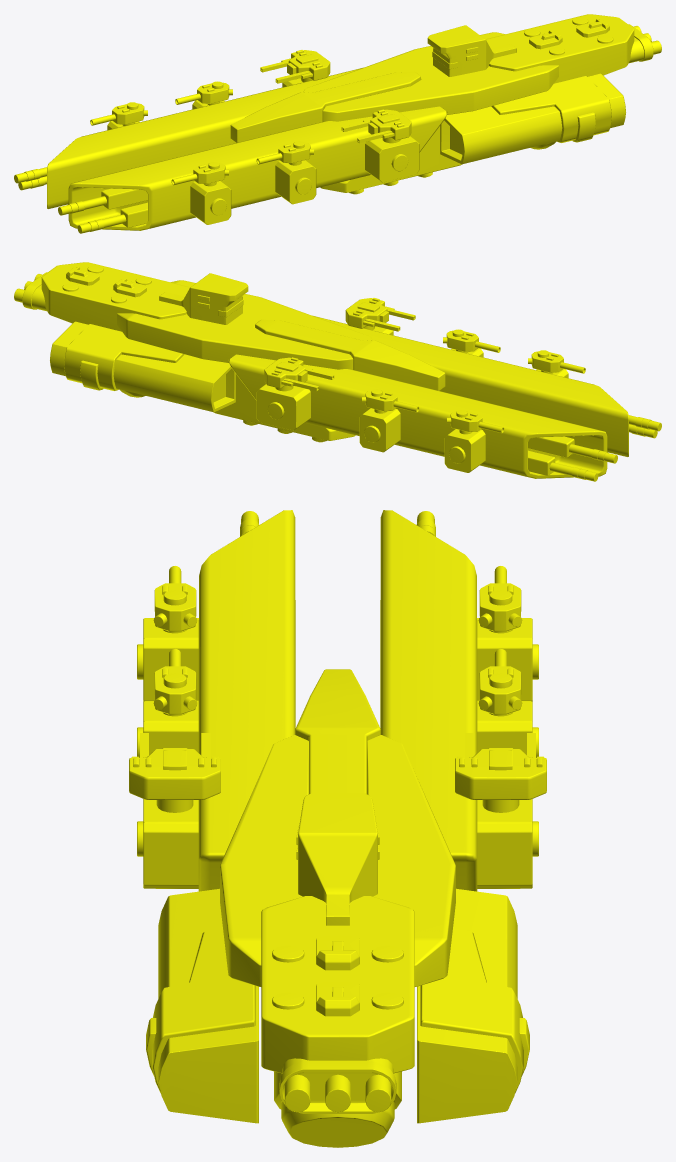
Rendered from destroyer_03.glb.
The picture shows the model from 3 angles, top to bottom: view 1: azimuth 30°, elevation 25°; view 2: azimuth 150°, elevation 25°; view 3: azimuth 270°, elevation 25°; orthographic projection. The views are drawn at different scales.
Visible parts, largest first — view 1: Destroyer_3.002; view 2: Destroyer_3.002; view 3: Destroyer_3.002.
Part boxes in pixels (left/top/right/bottom): Destroyer_3.002: left=14, top=14, right=661, bottom=233; Destroyer_3.002: left=14, top=262, right=661, bottom=481; Destroyer_3.002: left=129, top=510, right=546, bottom=1147.
Size of the model in its own units: 107 by 21.94 by 31.6.
Materials: 1 (1 with a texture image).
